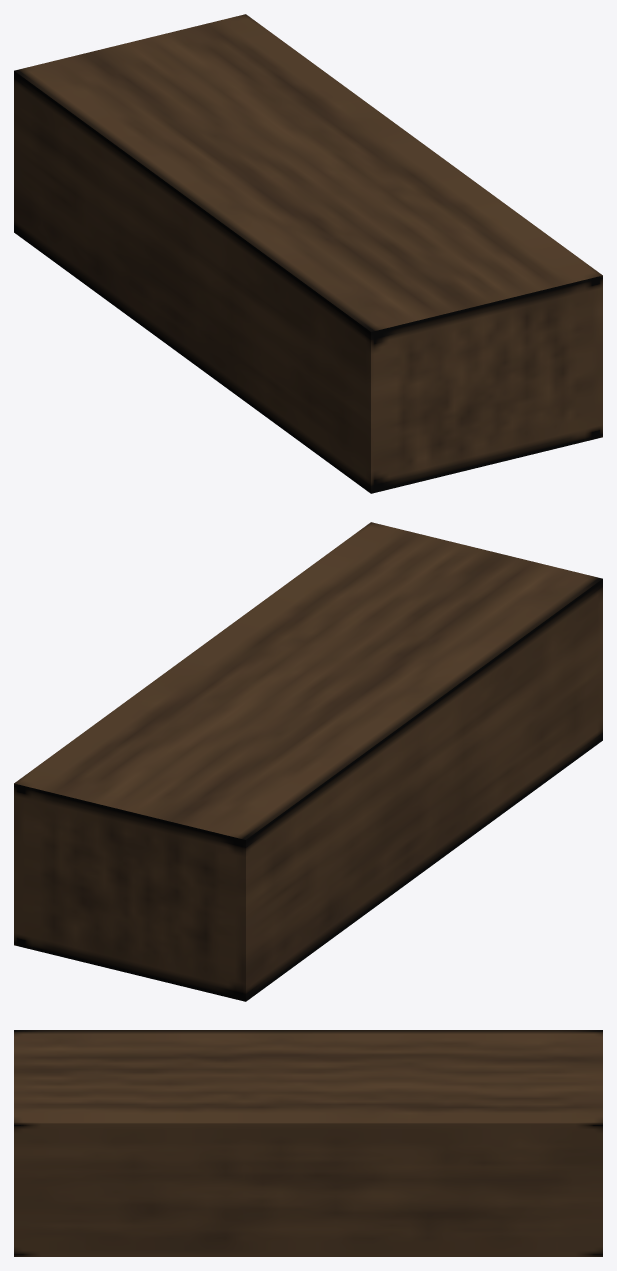
The model's file is Rack foot__n4.glb.
3 views of the same model, one above another, from view 1: azimuth 30°, elevation 25°; view 2: azimuth 150°, elevation 25°; view 3: azimuth 270°, elevation 25° (orthographic). The views are drawn at different scales.
Parts seen in each view (by area): view 1: Rack foot; view 2: Rack foot; view 3: Rack foot.
Boxes of the visible parts, x1=… form: Rack foot: x1=14, y1=14, x2=602, y2=493; Rack foot: x1=14, y1=522, x2=602, y2=1001; Rack foot: x1=14, y1=1030, x2=602, y2=1256.
Size of the model in its own units: 0.3 by 0.2 by 0.8.
Materials: 1 (1 with a texture image).
